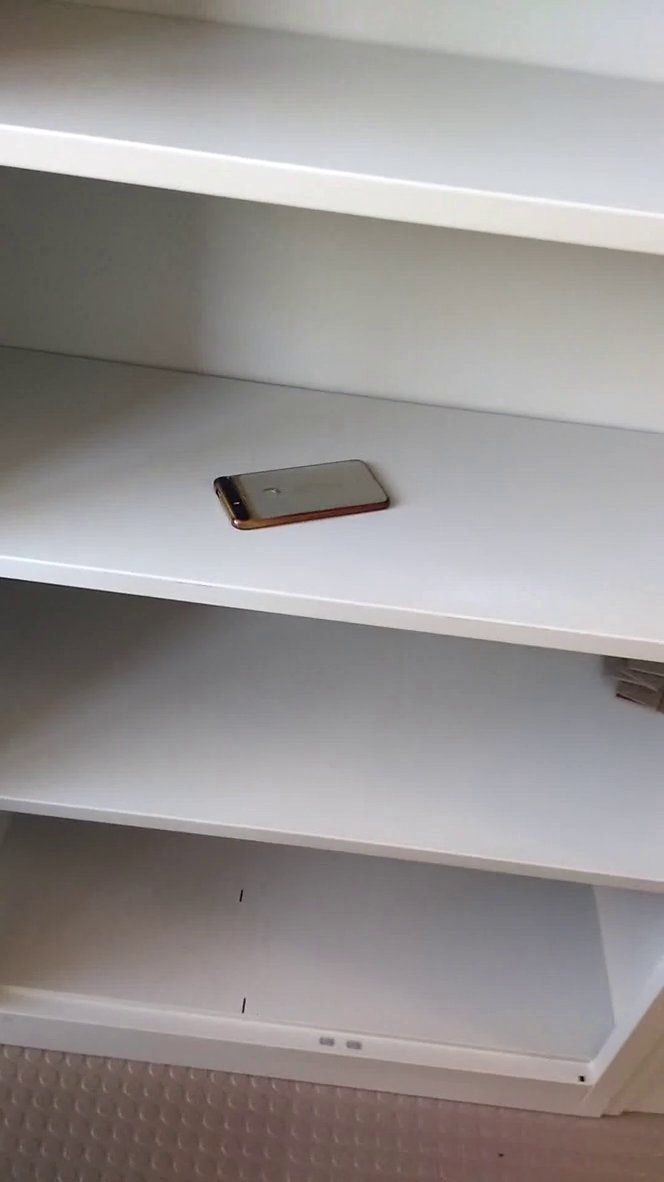phone: (204, 445, 408, 550)
